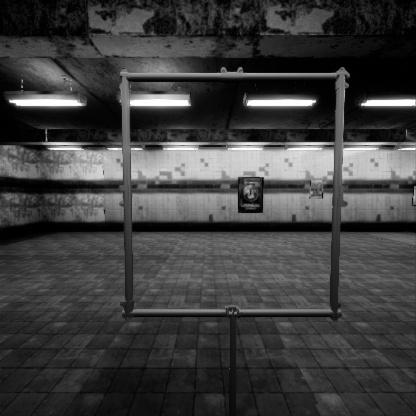gate: (121, 95, 369, 345)
